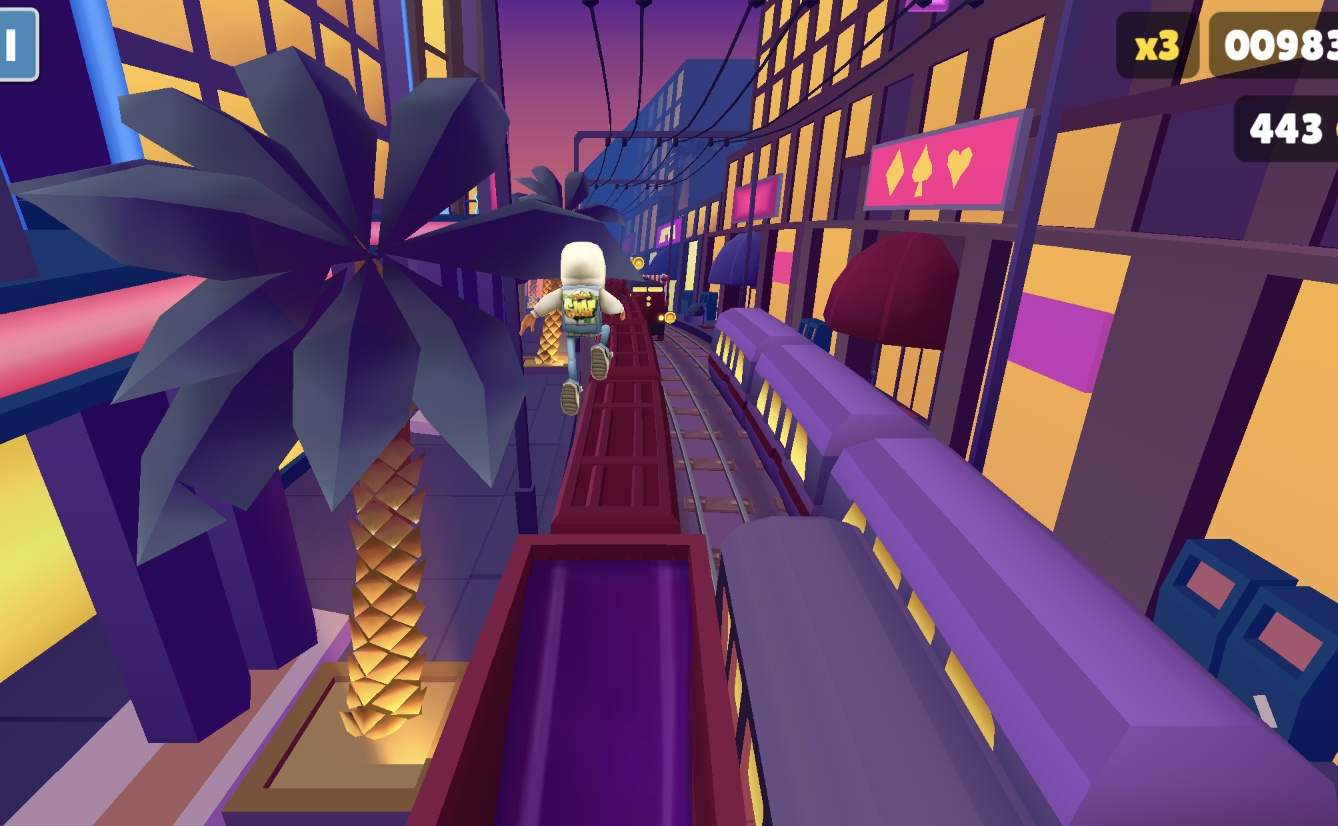train: (696, 307, 1168, 826), (462, 247, 716, 826), (624, 272, 676, 337)
